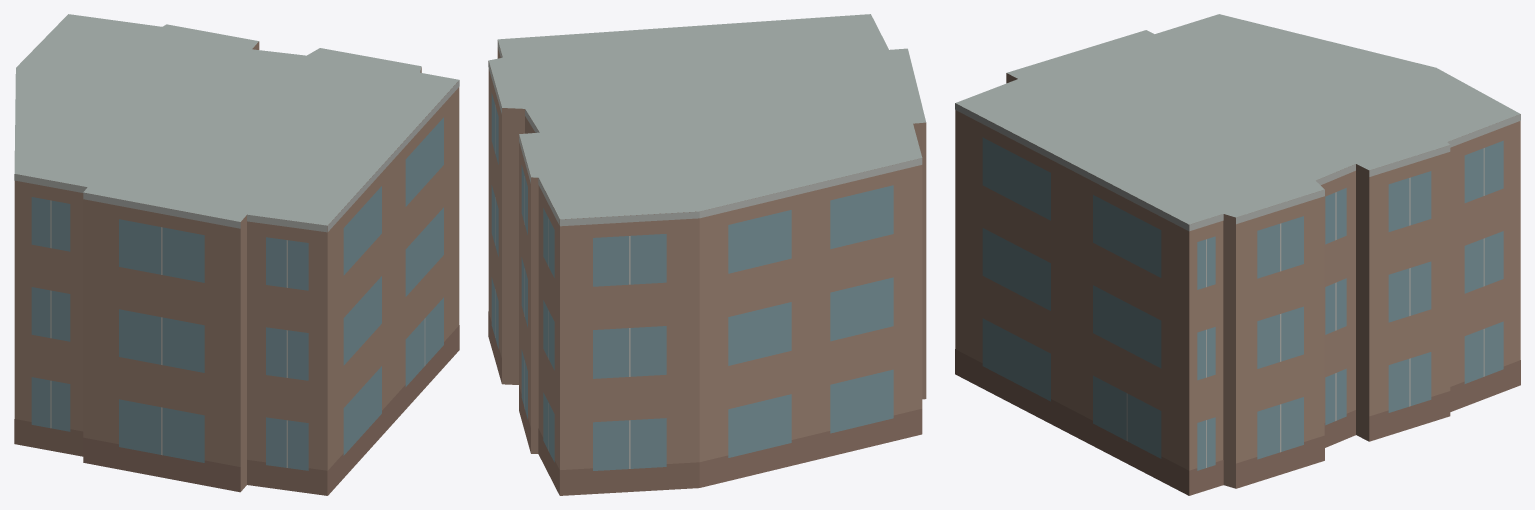
The model's file is survey-upis-32969517.glb.
3 renders of one model, left to right at view 1: azimuth 30°, elevation 25°; view 2: azimuth 150°, elevation 25°; view 3: azimuth 270°, elevation 25°, orthographic. The views are drawn at different scales.
Visible parts, largest first — view 1: survey-upis-32969517.tmp; view 2: survey-upis-32969517.tmp; view 3: survey-upis-32969517.tmp.
Boxes of the visible parts, x1,y1,x2,y2 form: survey-upis-32969517.tmp: (14,14,459,495); survey-upis-32969517.tmp: (488,14,926,495); survey-upis-32969517.tmp: (955,14,1520,495).
Size of the model in its own units: 16.33 by 9.8 by 18.53.
